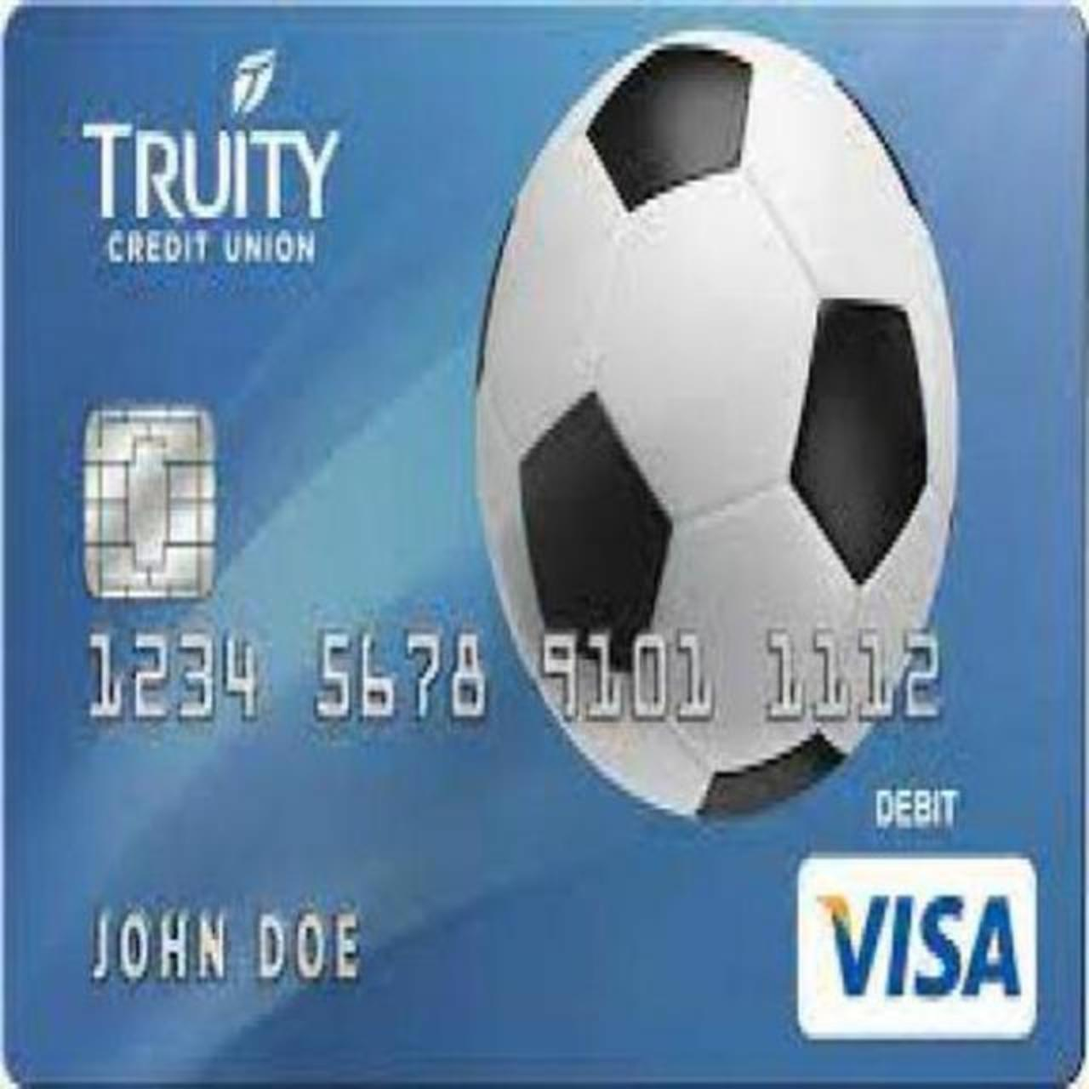credit_card: (3, 7, 1089, 1089)
